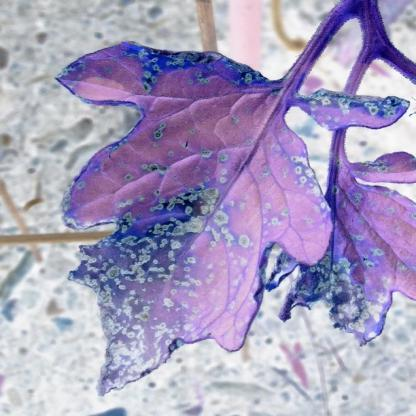tomato septoria leaf spot: (48, 32, 411, 407), (241, 146, 415, 354)
